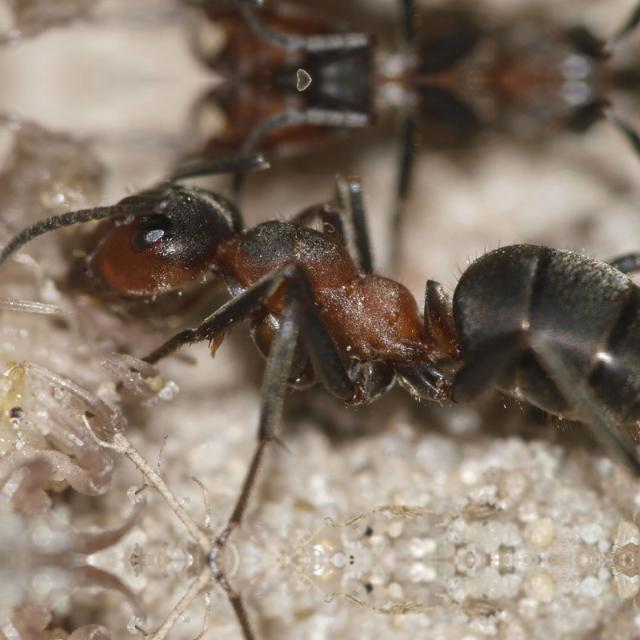Formica: (95, 142, 640, 468)
